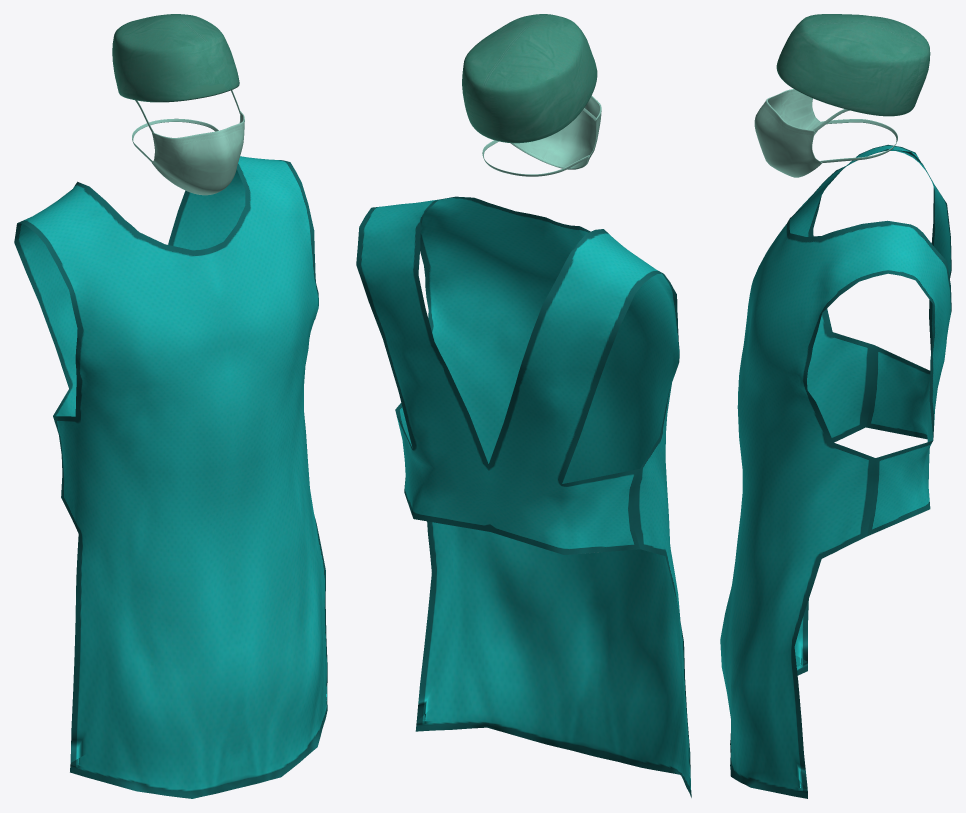
Rendered from X Ray 2.obj.
3 renders of one model, left to right at view 1: azimuth 30°, elevation 25°; view 2: azimuth 150°, elevation 25°; view 3: azimuth 270°, elevation 25°, orthographic. The views are drawn at different scales.
Visible parts, largest first — view 1: Protection, Mask002; view 2: Protection, Mask002; view 3: Protection, Mask002.
Boxes of the visible parts, <box> form: Protection: <box>14,156,327,798</box>; Mask002: <box>112,14,244,195</box>; Protection: <box>356,196,691,797</box>; Mask002: <box>462,14,601,176</box>; Protection: <box>720,144,951,798</box>; Mask002: <box>754,14,930,177</box>.
Size of what is drawn, in the model's own units: 17.02 by 44.89 by 12.81.
